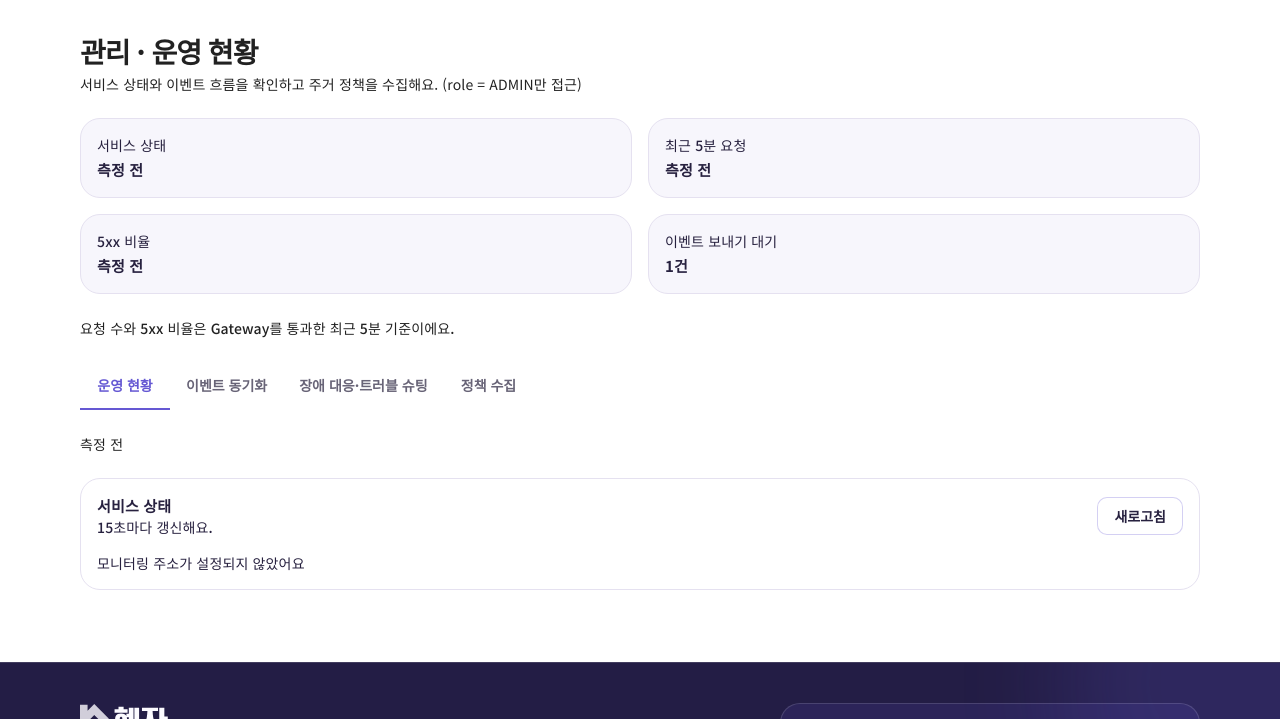
관리자 장애 대응·트러블 슈팅 › 모니터링 주소가 비면 Prometheus 바로가기만 숨긴다
Expected: the heading "관리 · 운영 현황" is shown, [80,31,257,71]
Click the tab "장애 대응·트러블 슈팅": (363, 386) [283,362,444,410]
(page scrolled)
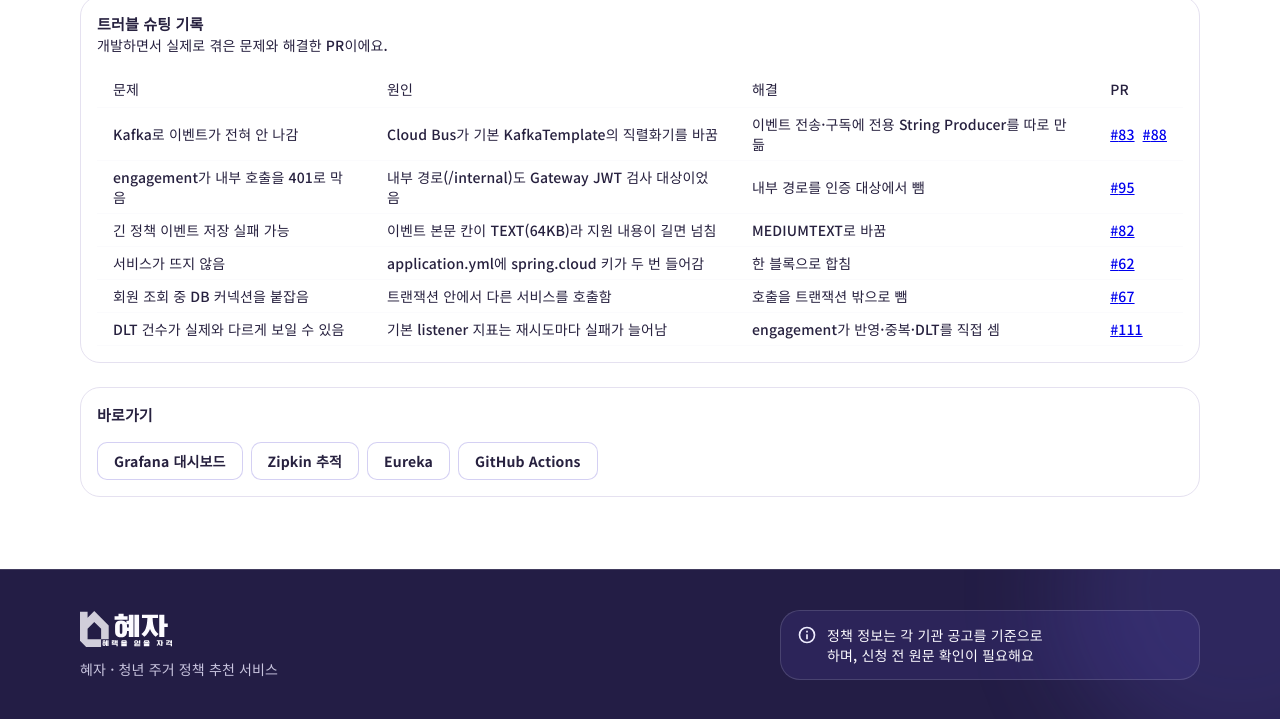
Expected: the link "Zipkin 추적" is shown, [250,442,359,480]
Expected: the link "Eureka" is shown, [367,442,450,480]
Expected: the link "GitHub Actions" is shown, [458,442,598,480]
